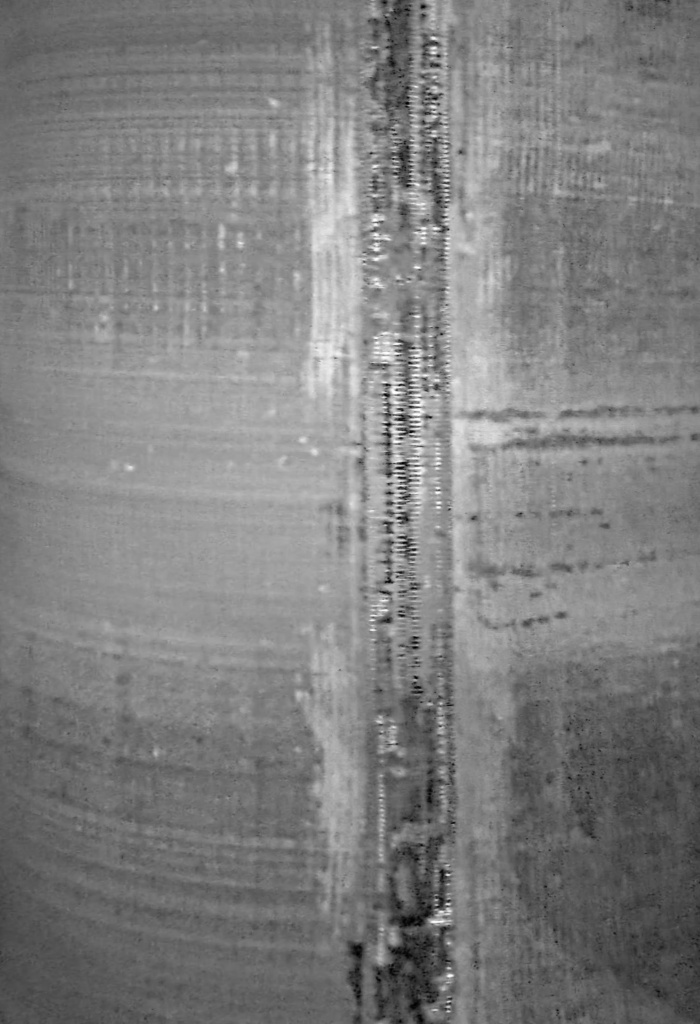splice: (345, 4, 475, 1024)
